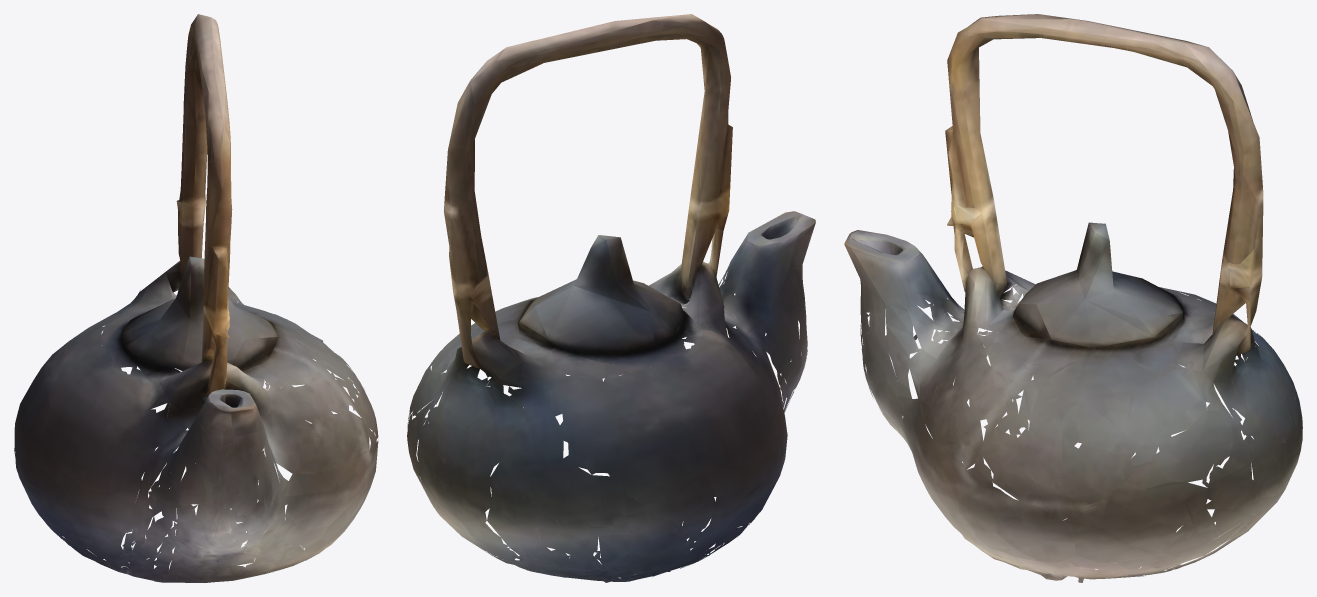
The model's file is sf-longpi-teapot.lod1.glb.
3 views of the same model, side by side, from view 1: azimuth 30°, elevation 25°; view 2: azimuth 150°, elevation 25°; view 3: azimuth 270°, elevation 25° (orthographic). The views are drawn at different scales.
Visible parts, largest first — view 1: Model; view 2: Model; view 3: Model.
Boxes of the visible parts, bbox=[...] form: Model: bbox=[14, 14, 378, 582]; Model: bbox=[407, 14, 815, 582]; Model: bbox=[844, 14, 1302, 582].
Size of the model in its own units: 0.1762 by 0.2581 by 0.2079.
1 material, 1 textured.
